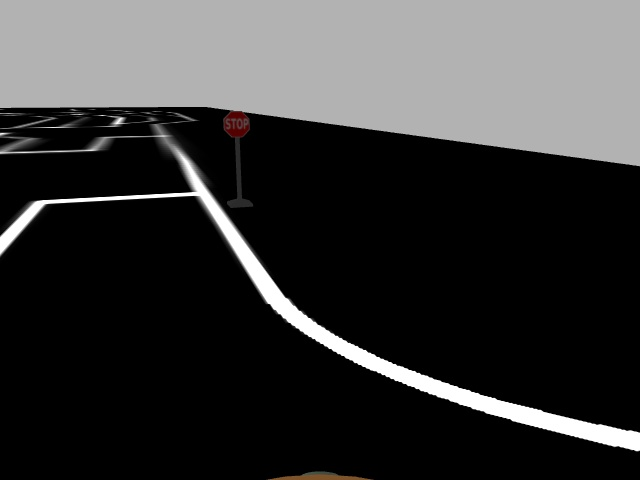stop: (220, 109, 252, 139)
